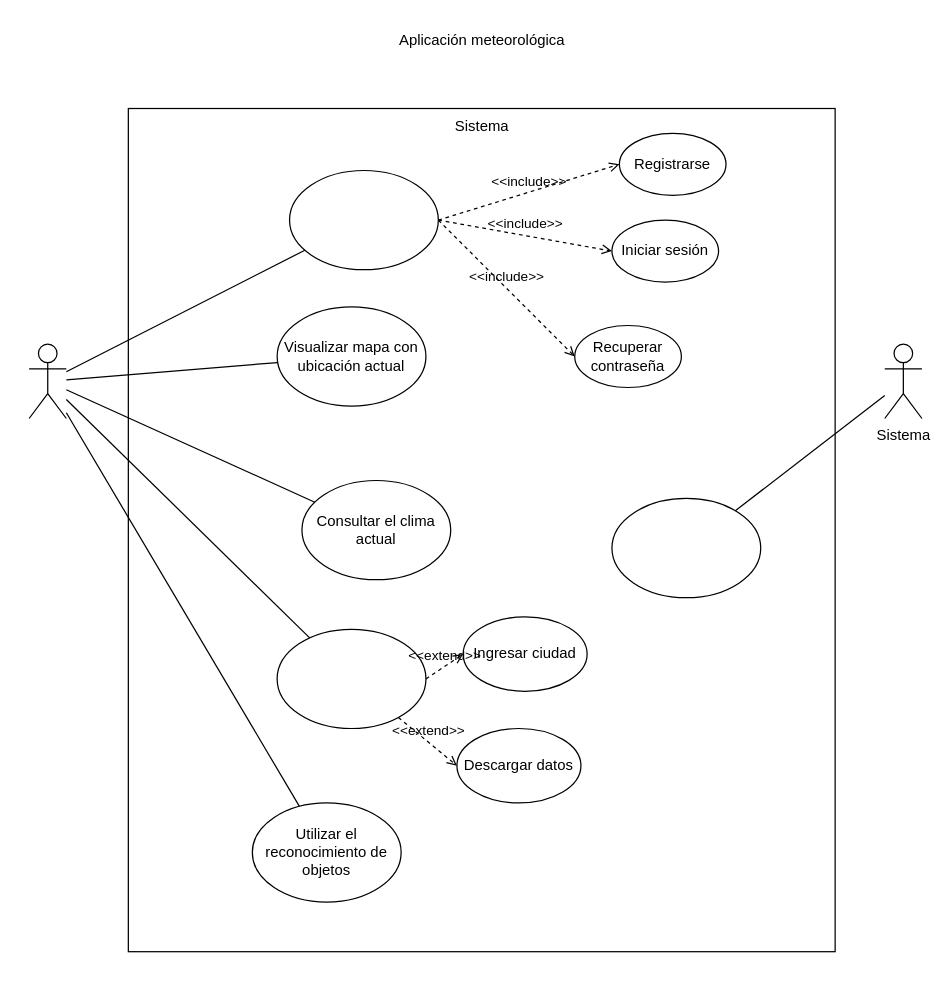
This 951x983 diagram has some shape labels left out. The box of each missing label's shape, as (x1, y1, x2, y2) in pixels:
Actualizar datos meteorológicos: (611, 497, 761, 598)
Autenticarse: (288, 169, 438, 270)
Jugador: (28, 343, 66, 418)
Visualizar historial climático: (276, 628, 426, 728)
